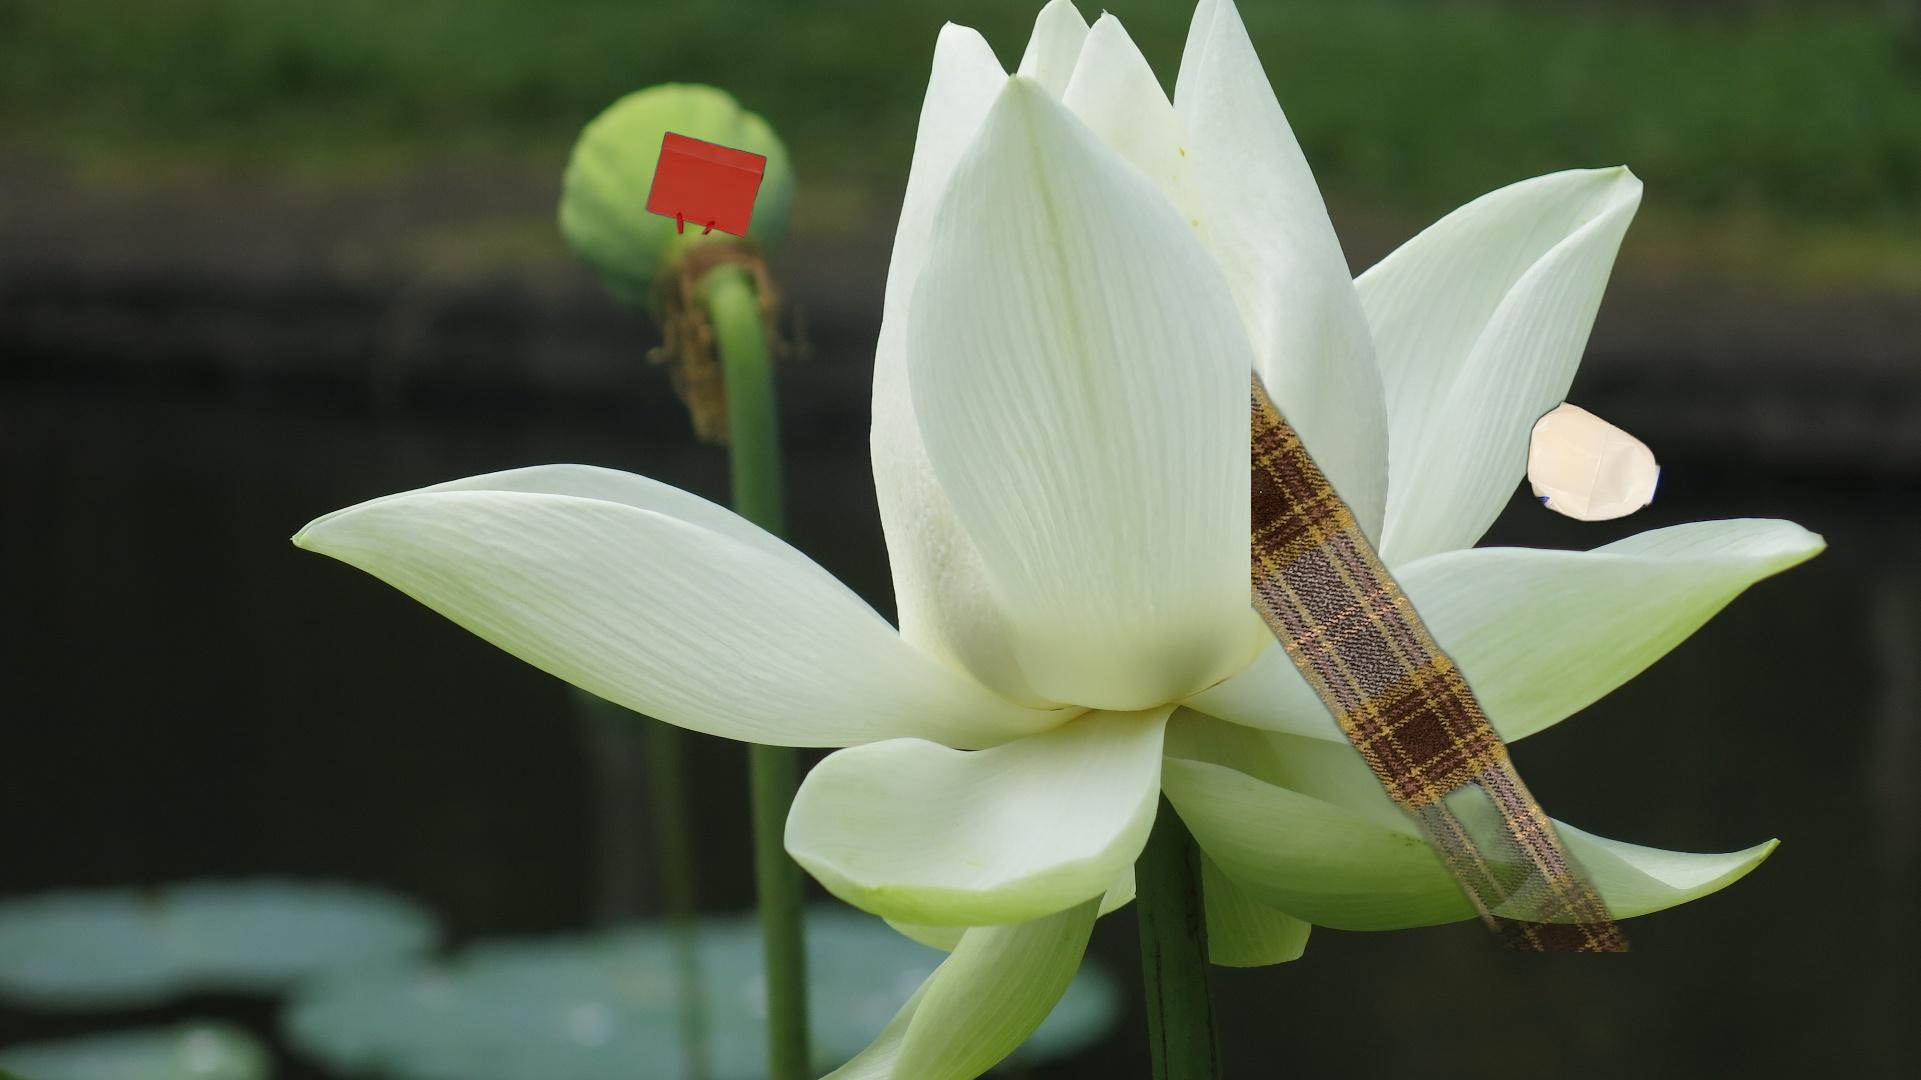paper-bag: (643, 129, 771, 240)
plastic-bottles: (1251, 269, 1763, 952)
